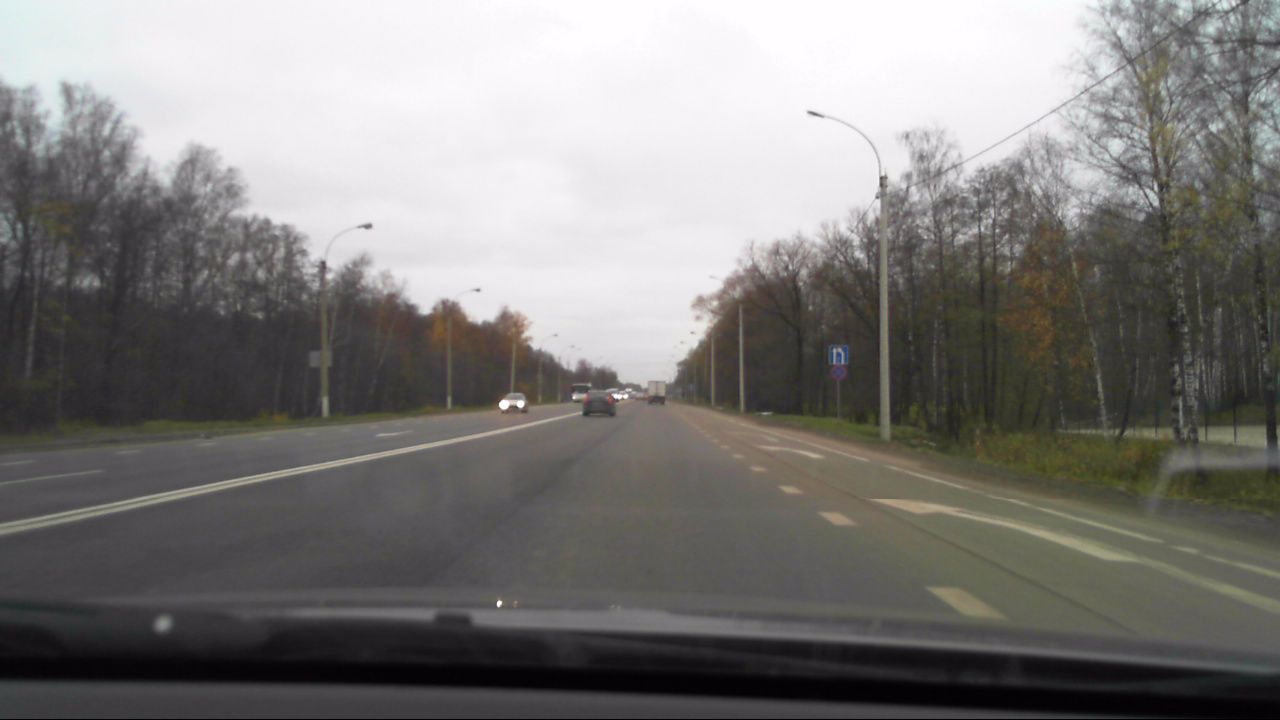No Parking: (829, 366, 849, 382)
